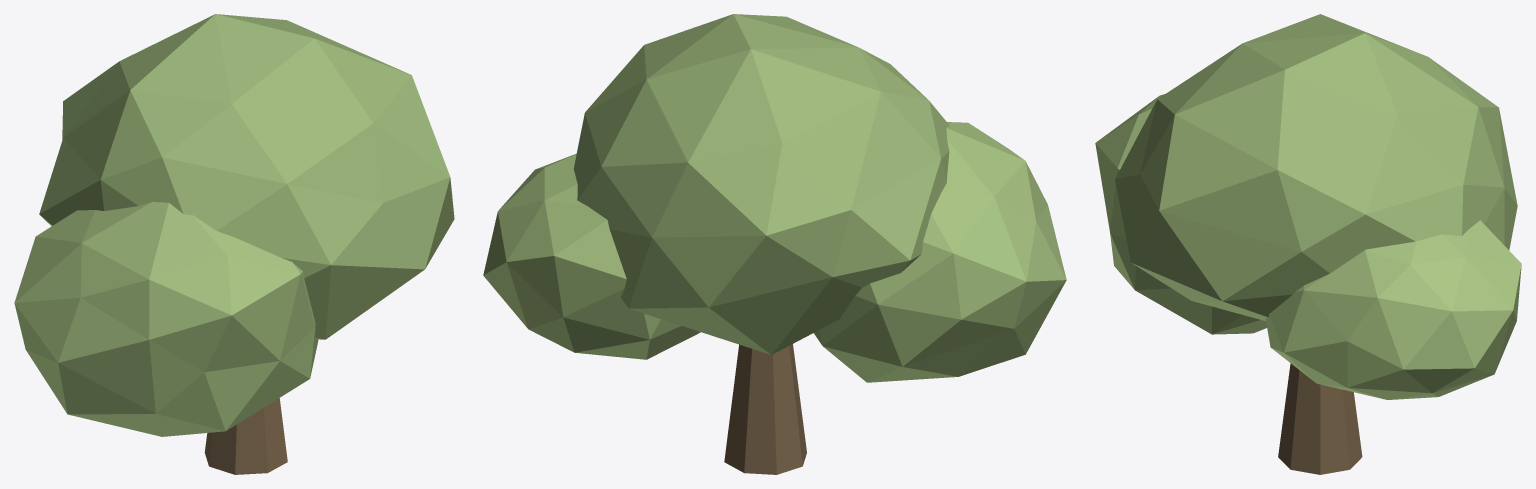
3 renders of one model, left to right at view 1: azimuth 30°, elevation 25°; view 2: azimuth 150°, elevation 25°; view 3: azimuth 270°, elevation 25°, orthographic. The views are drawn at different scales.
Visible parts, largest first — view 1: node (×3); view 2: node (×4); view 3: node (×4).
Part boxes in pixels (x1,y1,x2,y2): node (×3): [14, 14, 454, 474]; node (×4): [483, 14, 1066, 474]; node (×4): [1095, 14, 1521, 474].
Bounding box in the file's own units: 2.12 × 1.85 × 1.7.
